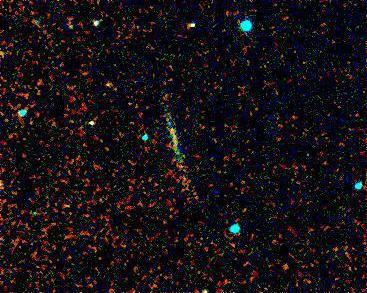star: (271, 252, 301, 282)
